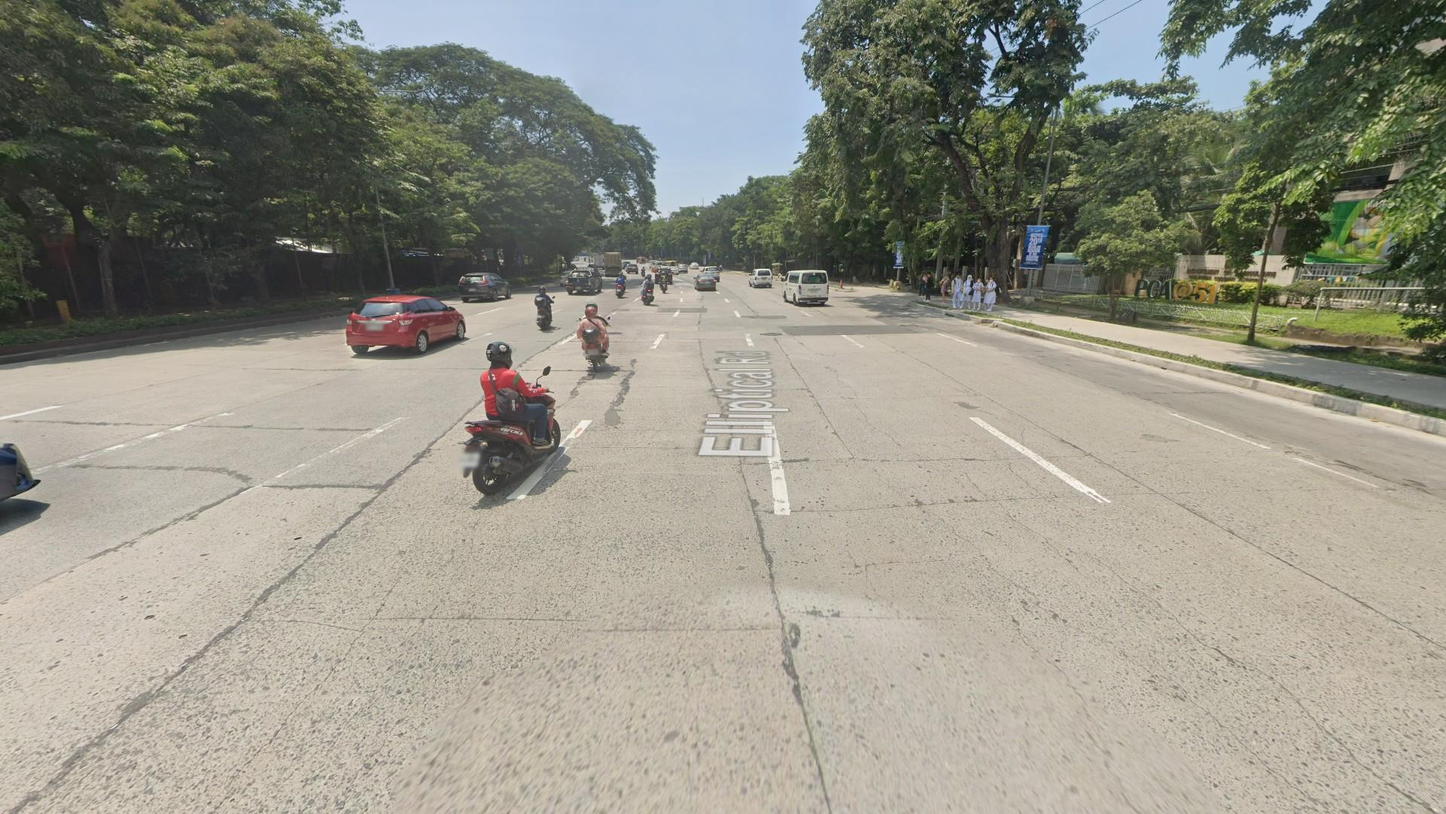pedestrian: (959, 275, 974, 310), (985, 276, 998, 312), (951, 272, 963, 308), (971, 277, 984, 310), (923, 272, 935, 303), (938, 274, 950, 304), (983, 278, 992, 311), (919, 271, 925, 296)
